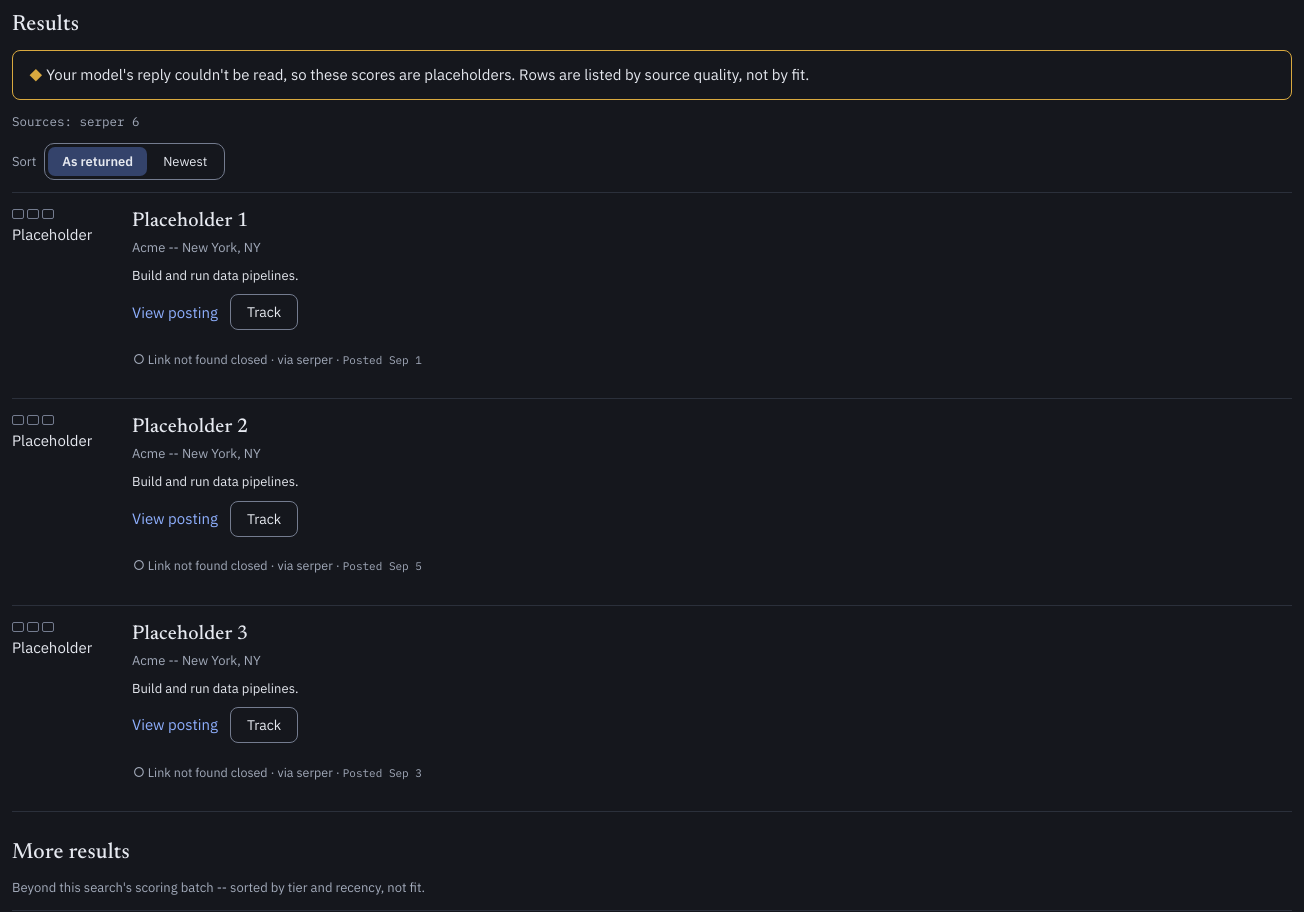
Test: what each section's notice says about its order › with both sections dated: both notices say newest first, and each says it only while Newest is the sort shown
The image size is (1304, 912).
Click the button "Newest" at (185, 162), box x1=149 y1=147 x2=221 y2=176
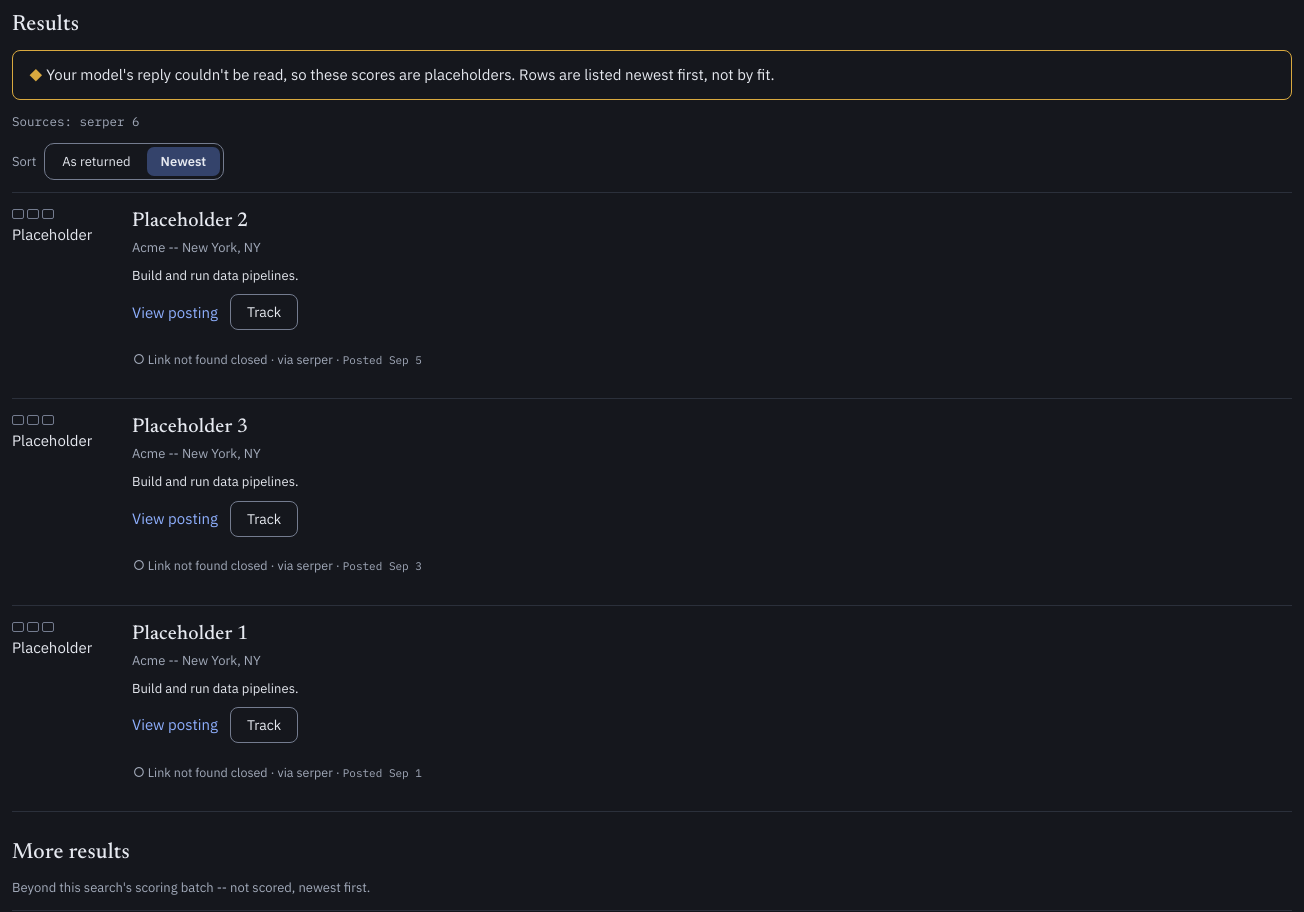
Now the element with class "bj-disc-fallback" shows "Rows are listed newest first, not by fit.", box x1=519 y1=65 x2=775 y2=84
Now the element with class "bj-disc-fallback" no longer shows "source quality"
